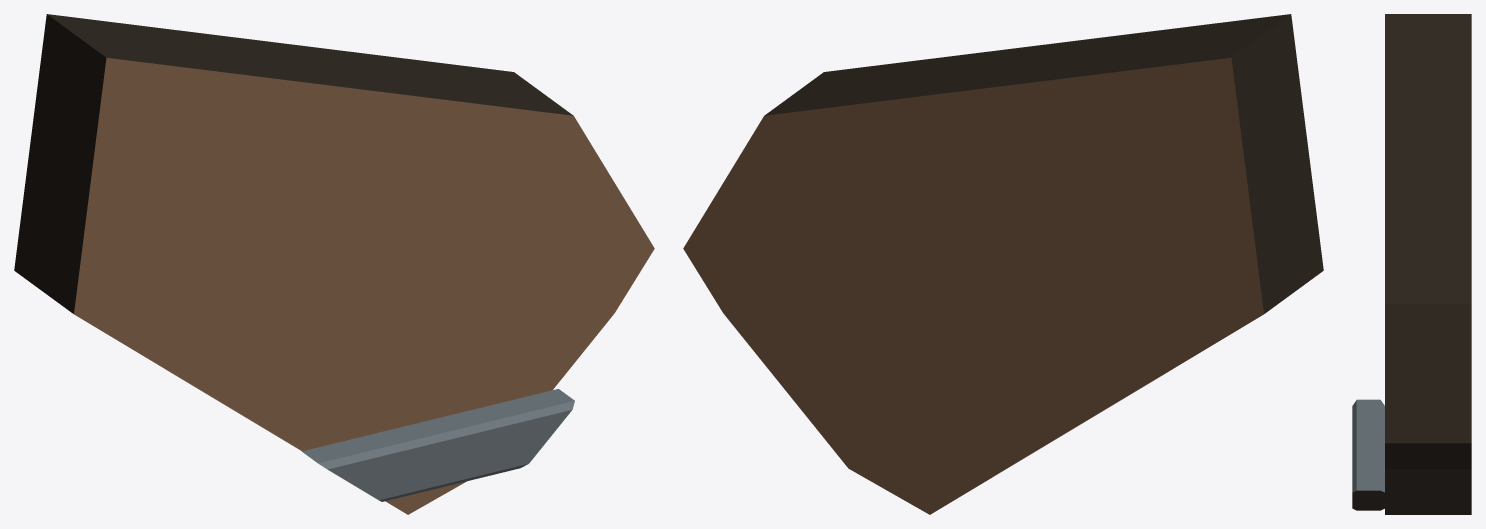
Rendered from SM_DoorShard_03_31.fbx.
The picture shows the model from 3 angles, left to right: view 1: azimuth 30°, elevation 25°; view 2: azimuth 150°, elevation 25°; view 3: azimuth 270°, elevation 25°; orthographic projection. The views are drawn at different scales.
Parts seen in each view (by area): view 1: SM_DoorShard_03_31; view 2: SM_DoorShard_03_31; view 3: SM_DoorShard_03_31.
Part boxes in pixels (left/top/right/bottom): SM_DoorShard_03_31: left=14, top=14, right=654, bottom=514; SM_DoorShard_03_31: left=683, top=14, right=1323, bottom=514; SM_DoorShard_03_31: left=1352, top=14, right=1471, bottom=514.
Bounding box in the file's own units: 89.81 × 22 × 78.43.
